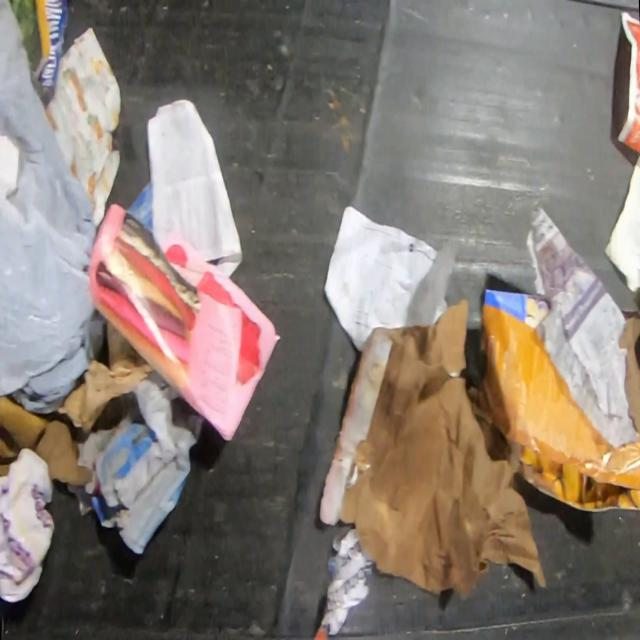cardboard: (480, 290, 640, 511), (0, 395, 93, 487), (618, 286, 640, 438)
soft_plastic: (0, 0, 107, 413)
